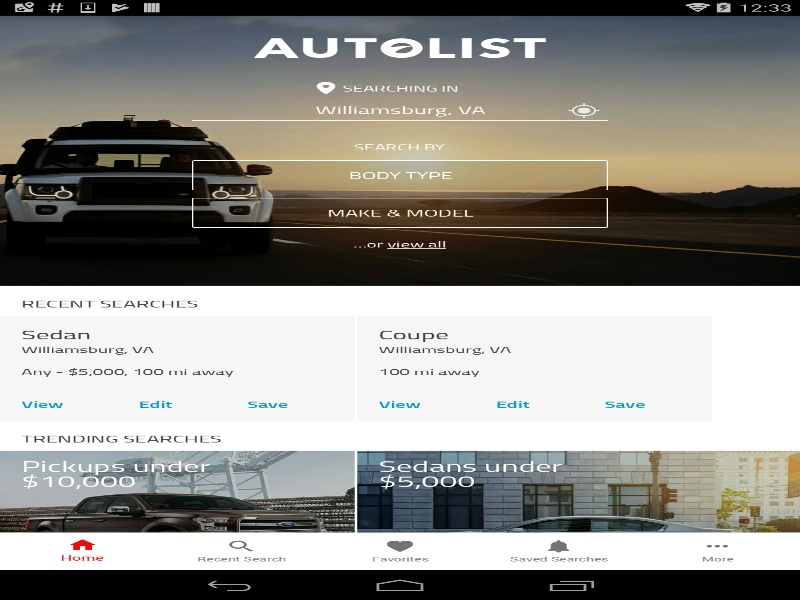Button: (192, 160, 608, 190), (192, 197, 608, 227), (560, 99, 608, 121)
Input: (192, 95, 608, 125)
